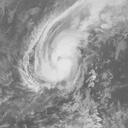cyclone: (18, 24, 87, 97)
